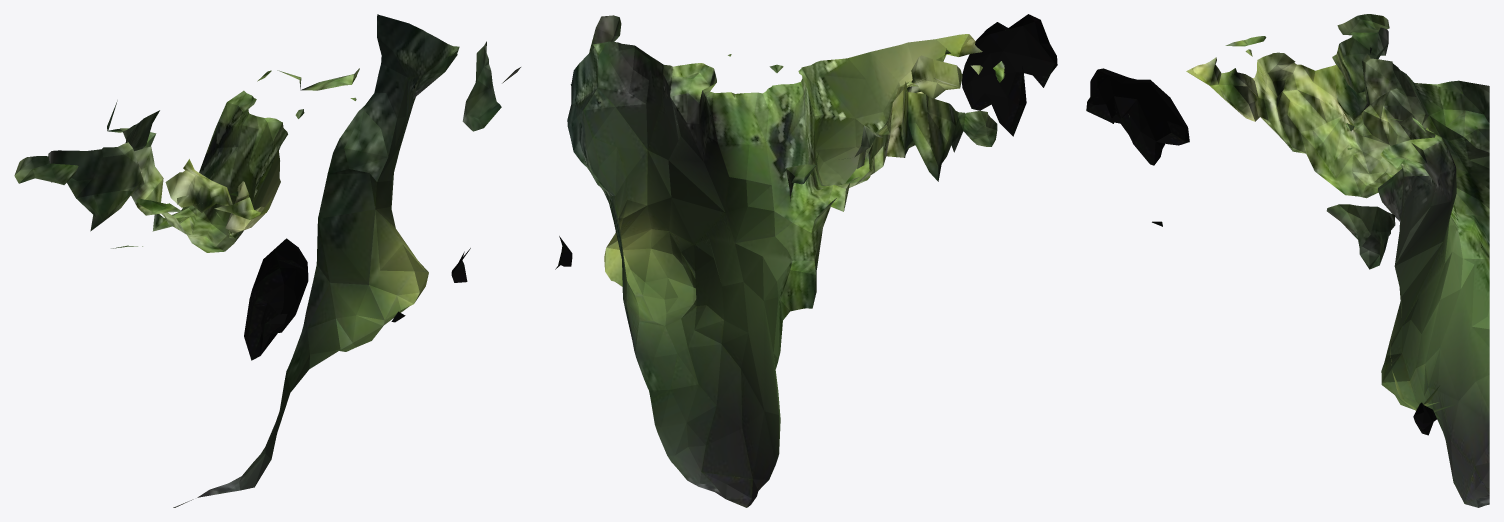
The picture shows the model from 3 angles, left to right: view 1: azimuth 30°, elevation 25°; view 2: azimuth 150°, elevation 25°; view 3: azimuth 270°, elevation 25°; orthographic projection. The views are drawn at different scales.
Size of the model in its own units: 23.15 by 20.39 by 19.51.
2 materials, 2 textured.
